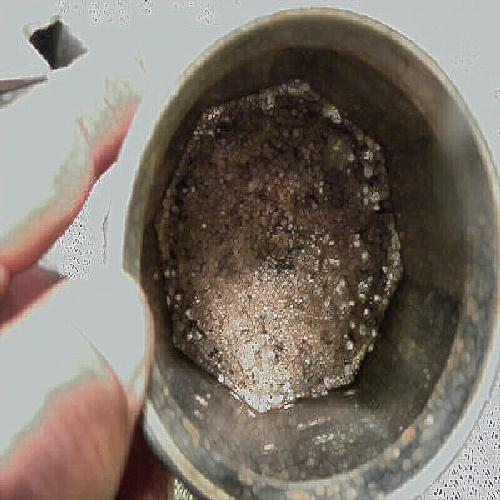coffee_maker: (109, 26, 474, 485)
